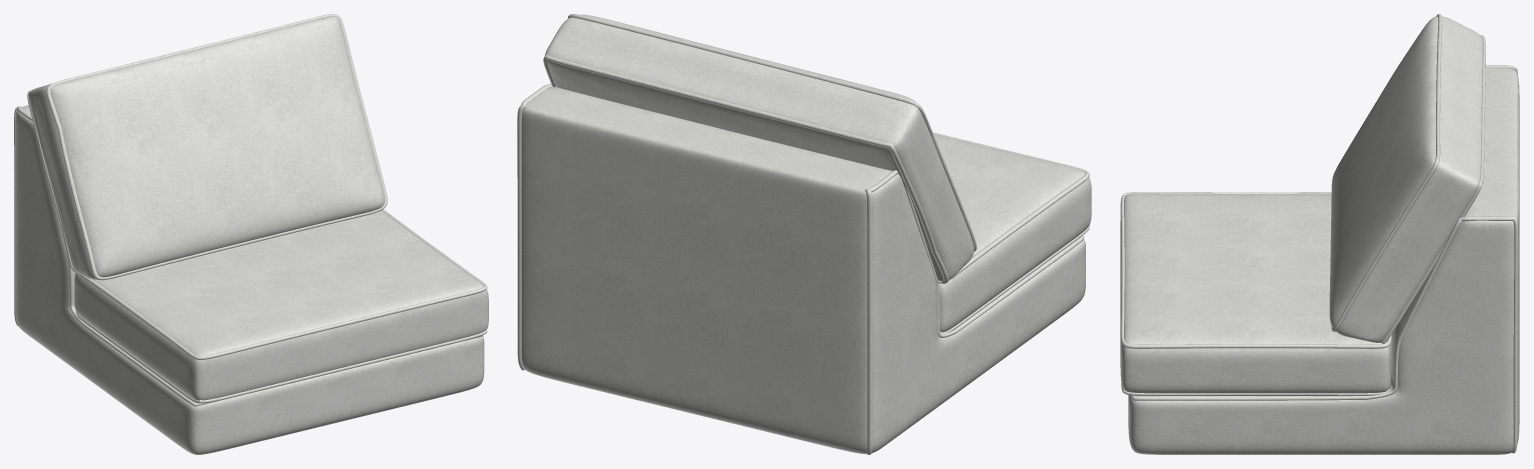
File: seat.glb
3 renders of one model, left to right at view 1: azimuth 30°, elevation 25°; view 2: azimuth 150°, elevation 25°; view 3: azimuth 270°, elevation 25°, orthographic. The views are drawn at different scales.
Visible parts, largest first — view 1: object 5, object 3, object 7, D=0,01 m (×4); view 2: object 7, object 5, object 3, D=0,01 m (×4); view 3: object 7, object 3, object 5, D=0,01 m (×5).
Boxes of the visible parts, x1,y1,x2,y2 form: object 5: [28, 16, 384, 279]; object 3: [74, 210, 488, 400]; object 7: [15, 105, 484, 454]; D=0,01 m (×4): [14, 14, 487, 406]; object 7: [521, 87, 1085, 454]; object 5: [545, 14, 974, 281]; object 3: [933, 134, 1091, 332]; D=0,01 m (×4): [517, 14, 1089, 454]; object 7: [1128, 67, 1519, 454]; object 3: [1120, 193, 1391, 393]; object 5: [1329, 16, 1482, 342]; D=0,01 m (×5): [1120, 14, 1517, 453].
Size of the model in its own units: 0.8798 by 0.7674 by 0.9386.
1 material, 1 textured.
